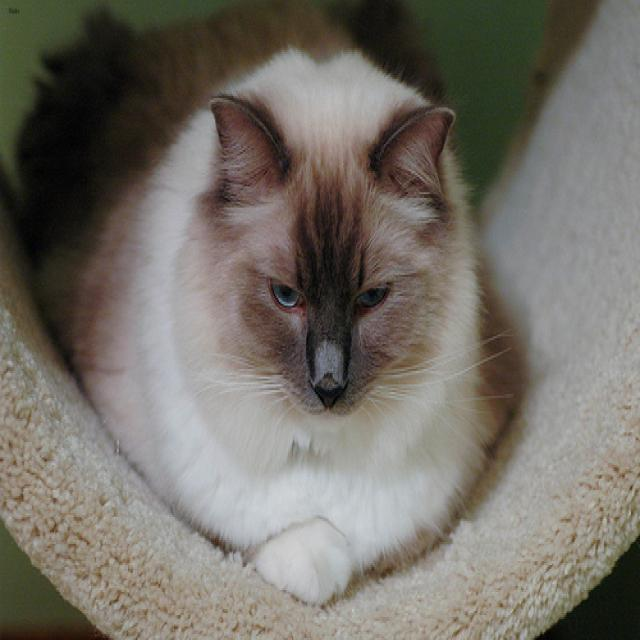Ragdoll: (207, 54, 471, 434)
